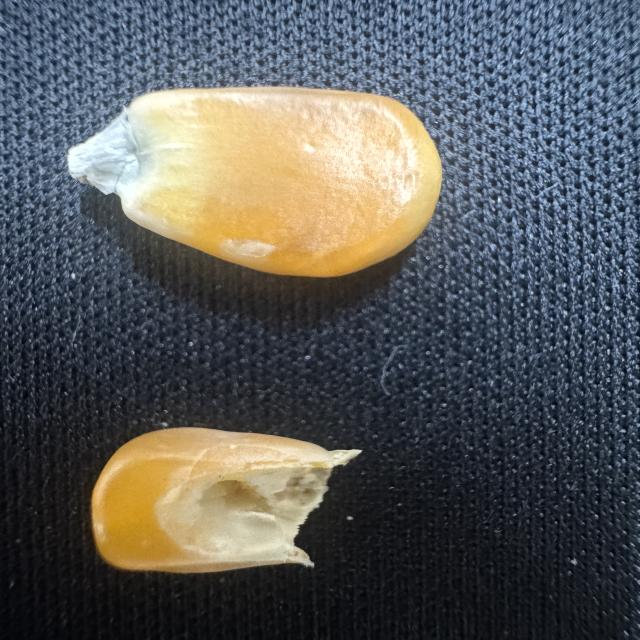Bad-Seed: (79, 415, 360, 593)
Good-Seed: (38, 76, 455, 284)
